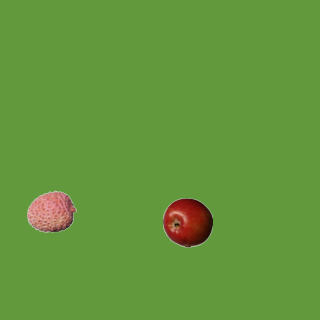Apple Braeburn: (162, 197, 212, 247)
Lychee: (26, 186, 76, 236)
